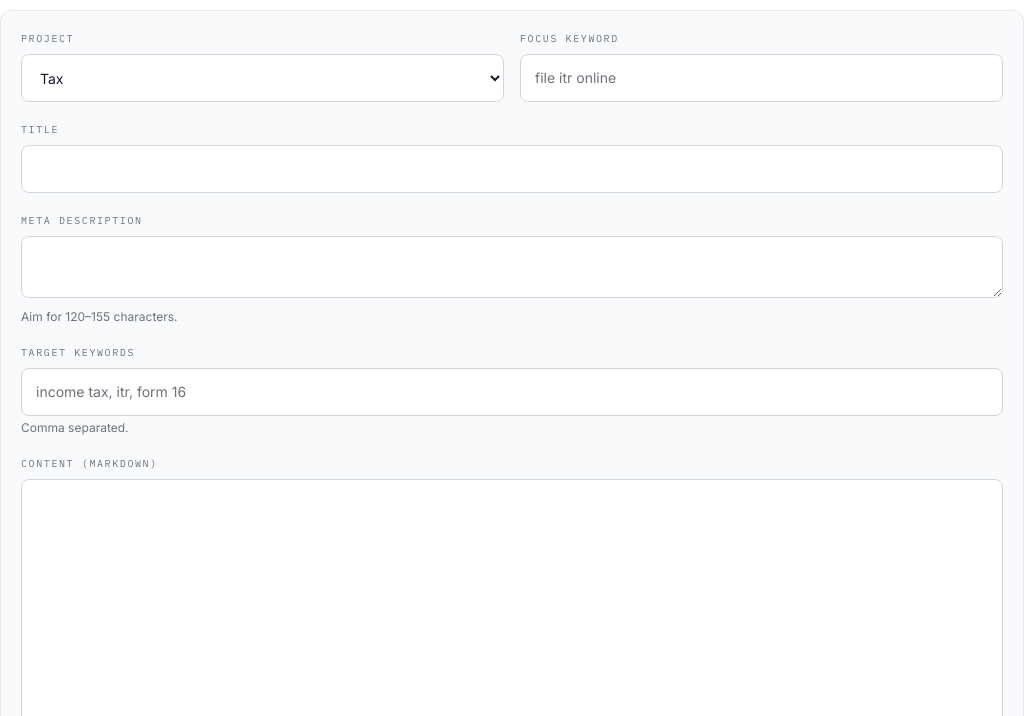
Test case: SeoPostsPanel › says the draft survived when scheduling fails
Type "File ITR online" into the field labelled "Title". click: [512, 169]
box: [21,145,1003,193]
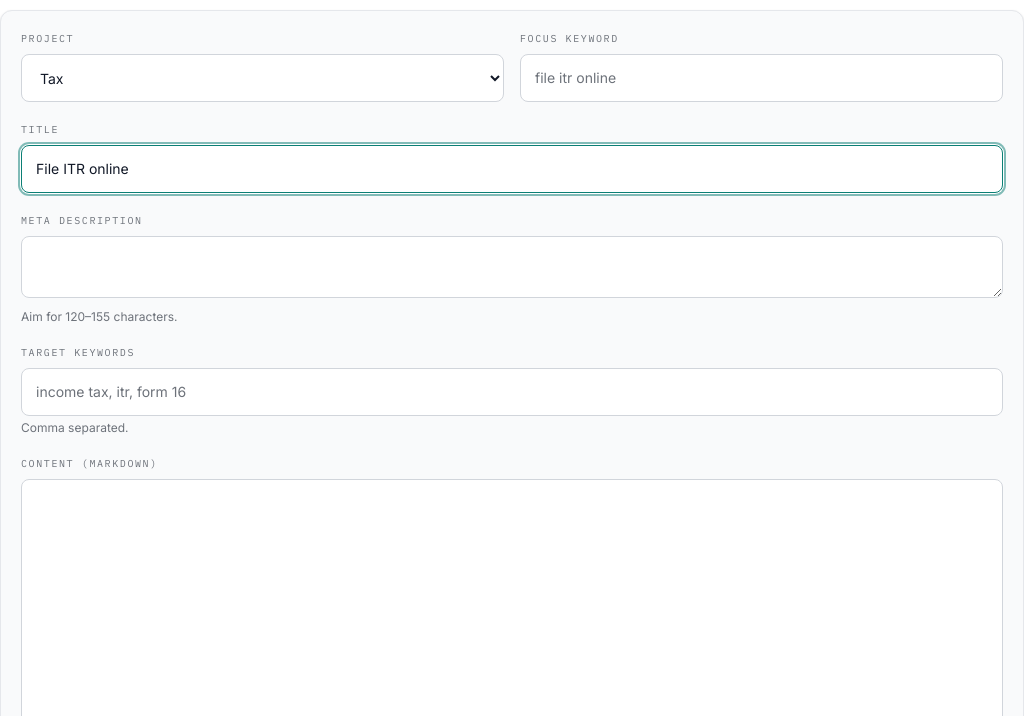
Type "income tax, itr" into the field labelled "Target keywords". click: [512, 392]
box: [21,368,1003,416]
(page scrolled)
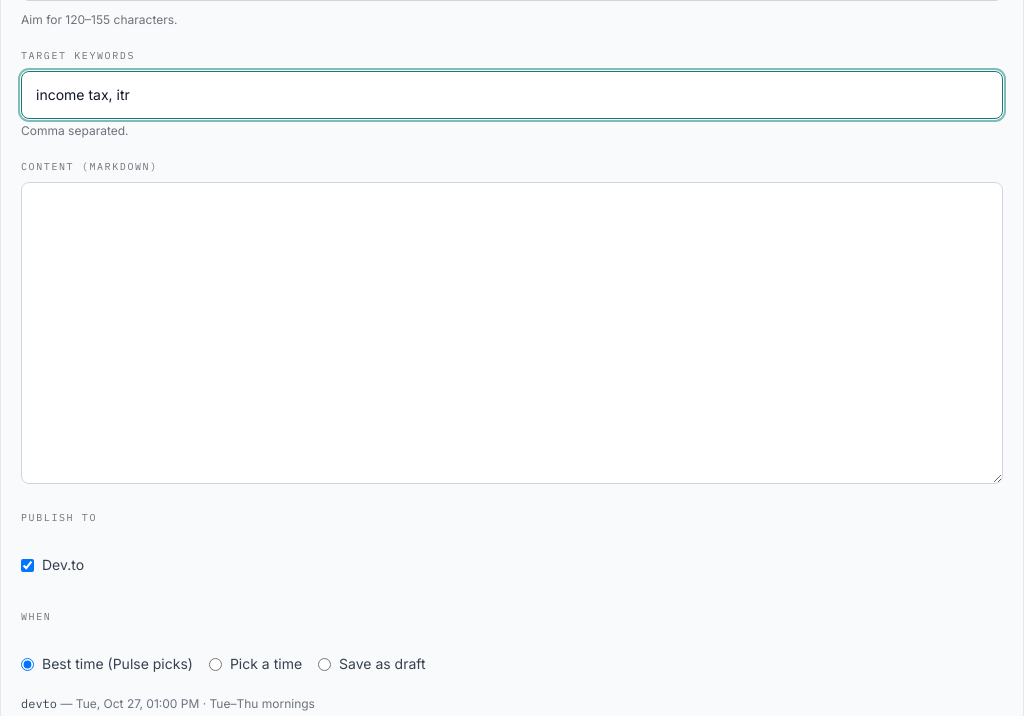
Type "Filing income tax is easy." into the text box labelled "Content (Markdown)". click: [512, 332]
box: [21,182,1003,484]
(page scrolled)
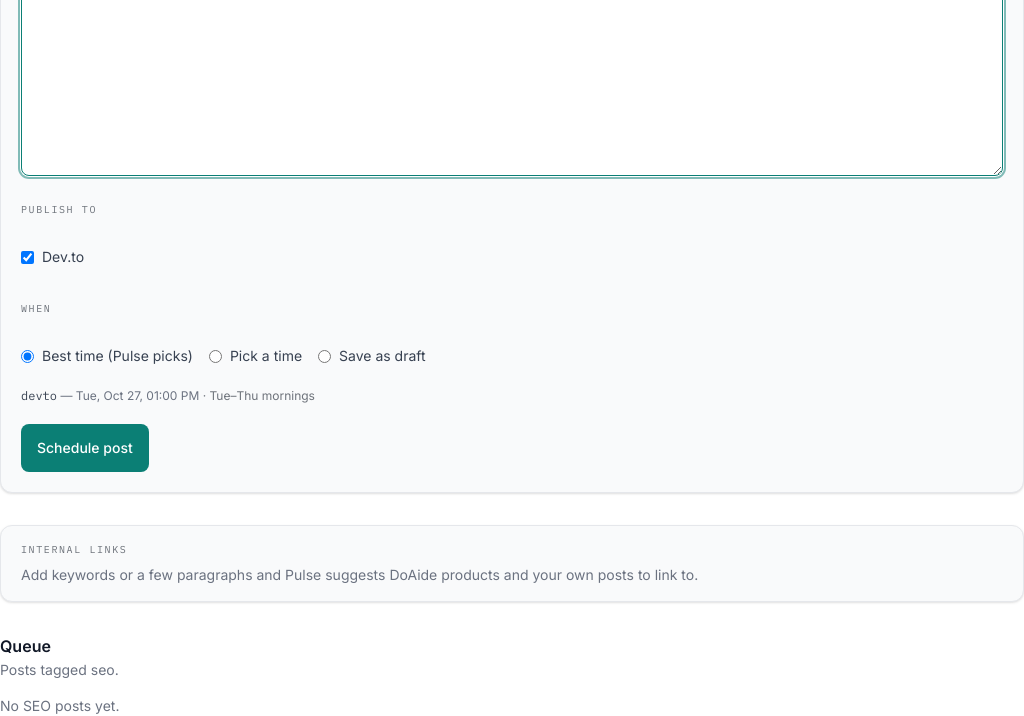
Click the button "Schedule post". click: [85, 448]
box: [21,424,149,472]
(page scrolled)
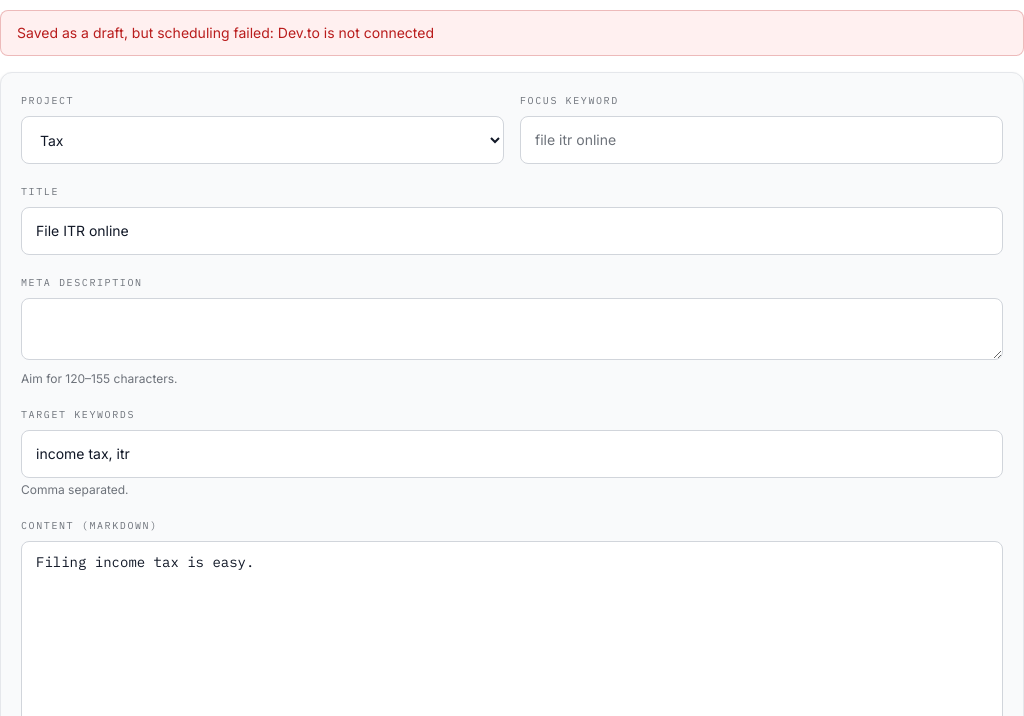
Expected: the message reads "Saved as a draft, but scheduling failed: Dev.to is not connected", [17,24,434,41]
